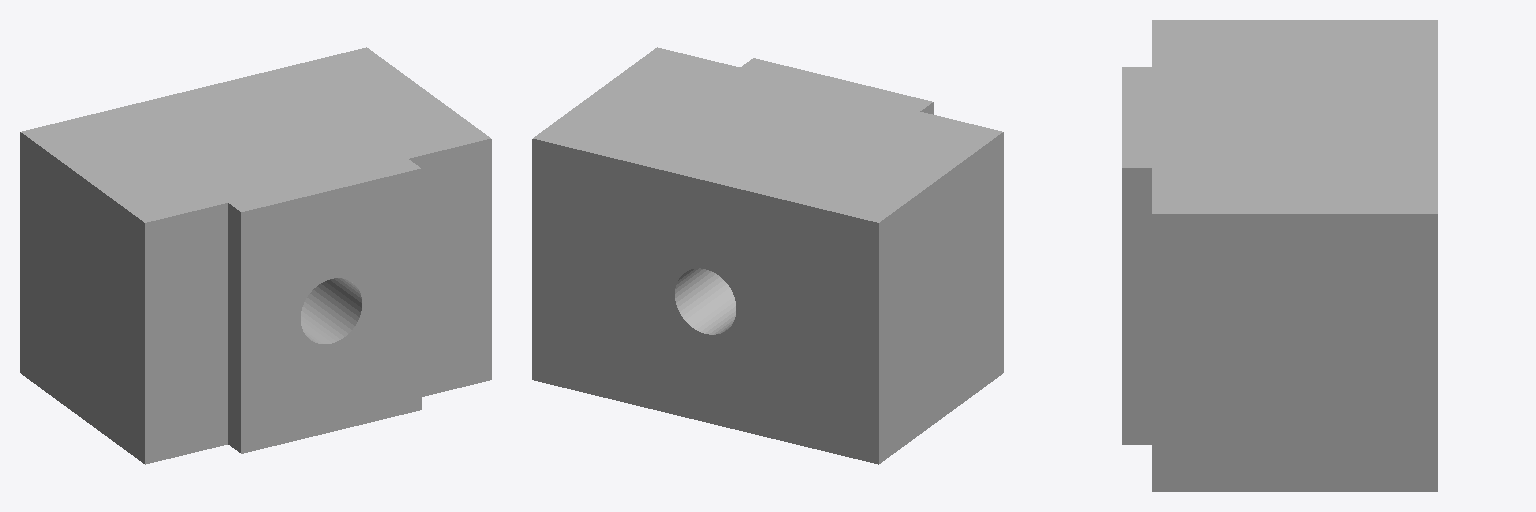
robot.urdf — root:
<?xml version='1.0' encoding='utf-8'?>
<robot name="root">
  <link name="link_001">
    <visual>
      <origin xyz="0 0 0" rpy="0 0 0" />
      <geometry>
        <mesh filename="71e7a792d350daefd154b43b26f05d20f2f34bccec7ab16ea0d3777d952a5af9_scale_000.stl" scale="1.0000E+00 1.0000E+00 1.0000E+00" />
      </geometry>
      <material name="">
        <color rgba="7.50E-01 7.50E-01 7.50E-01 1" />
      </material>
    </visual>
    <collision>
      <origin xyz="0 0 0" rpy="0 0 0" />
      <geometry>
        <mesh filename="71e7a792d350daefd154b43b26f05d20f2f34bccec7ab16ea0d3777d952a5af9_scale_000.stl" scale="1.0000E+00 1.0000E+00 1.0000E+00" />
      </geometry>
    </collision>
  </link>
</robot>

--- What the picture shows (computed from the rendered views, not written in the file) ---
3 views of the same robot in one strip: view 1: azimuth 30°, elevation 25°; view 2: azimuth 150°, elevation 25°; view 3: azimuth 270°, elevation 25° (orthographic).
Robot: root — 1 links, 0 joints (none); root link link_001; default pose: all joints at 0.
Links seen in each view (by area): view 1: link_001; view 2: link_001; view 3: link_001.
Link boxes in pixels (x1,y1,x2,y2): link_001: (20,47,491,464); link_001: (532,47,1003,464); link_001: (1122,20,1437,491).
Size in the robot's own frame: 0.12 by 0.0827 by 0.08 metres.
1 mesh visuals loaded from 1 distinct referenced files (1 binary STL).
